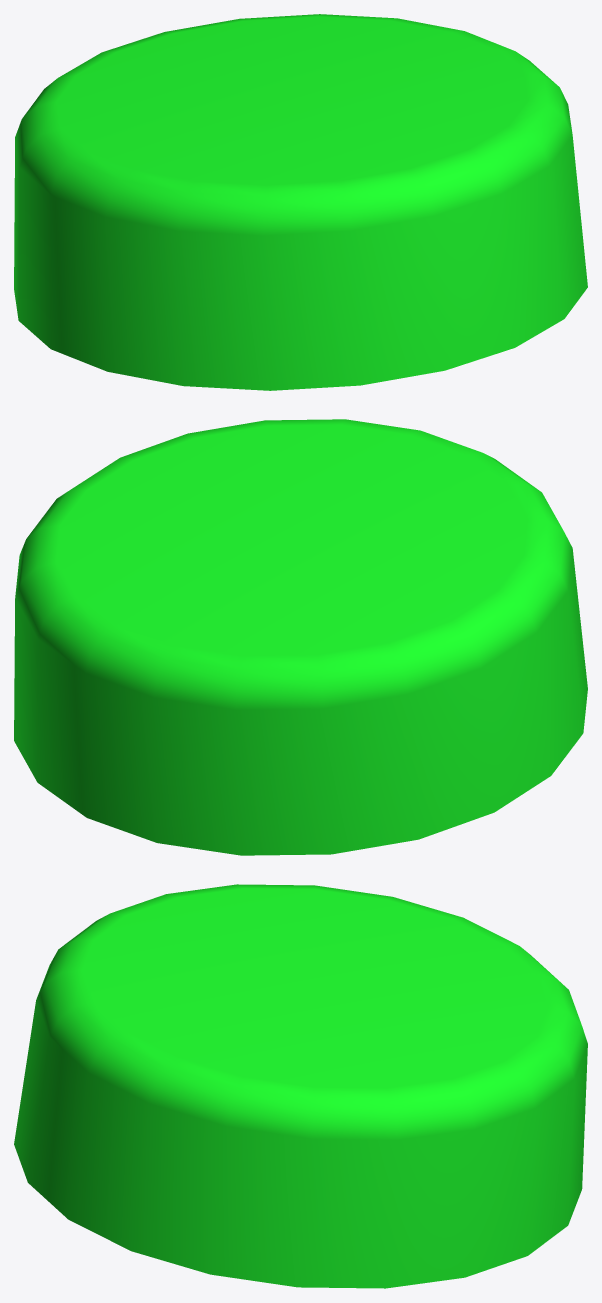
Rendered from Tetris_ButtonC.fbx.
The picture shows the model from 3 angles, top to bottom: view 1: azimuth 30°, elevation 25°; view 2: azimuth 150°, elevation 25°; view 3: azimuth 270°, elevation 25°; orthographic projection.
Visible parts, largest first — view 1: Tetris_ButtonC; view 2: Tetris_ButtonC; view 3: Tetris_ButtonC.
Boxes of the visible parts, bbox=[...] form: Tetris_ButtonC: bbox=[14, 14, 587, 390]; Tetris_ButtonC: bbox=[14, 419, 587, 855]; Tetris_ButtonC: bbox=[14, 884, 587, 1288].
Bounding box in the file's own units: 4.45 × 1.89 × 4.48.
